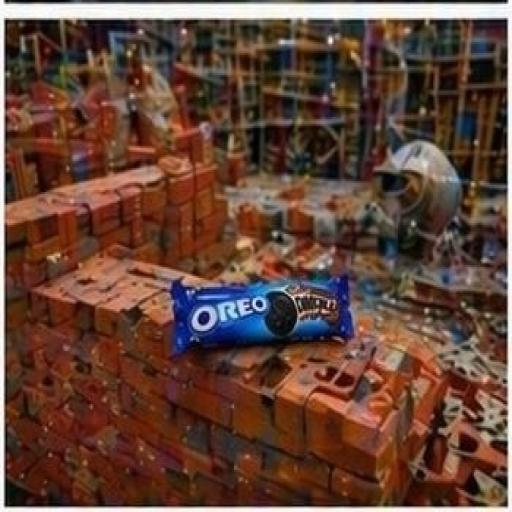oreo: (135, 226, 396, 388)
